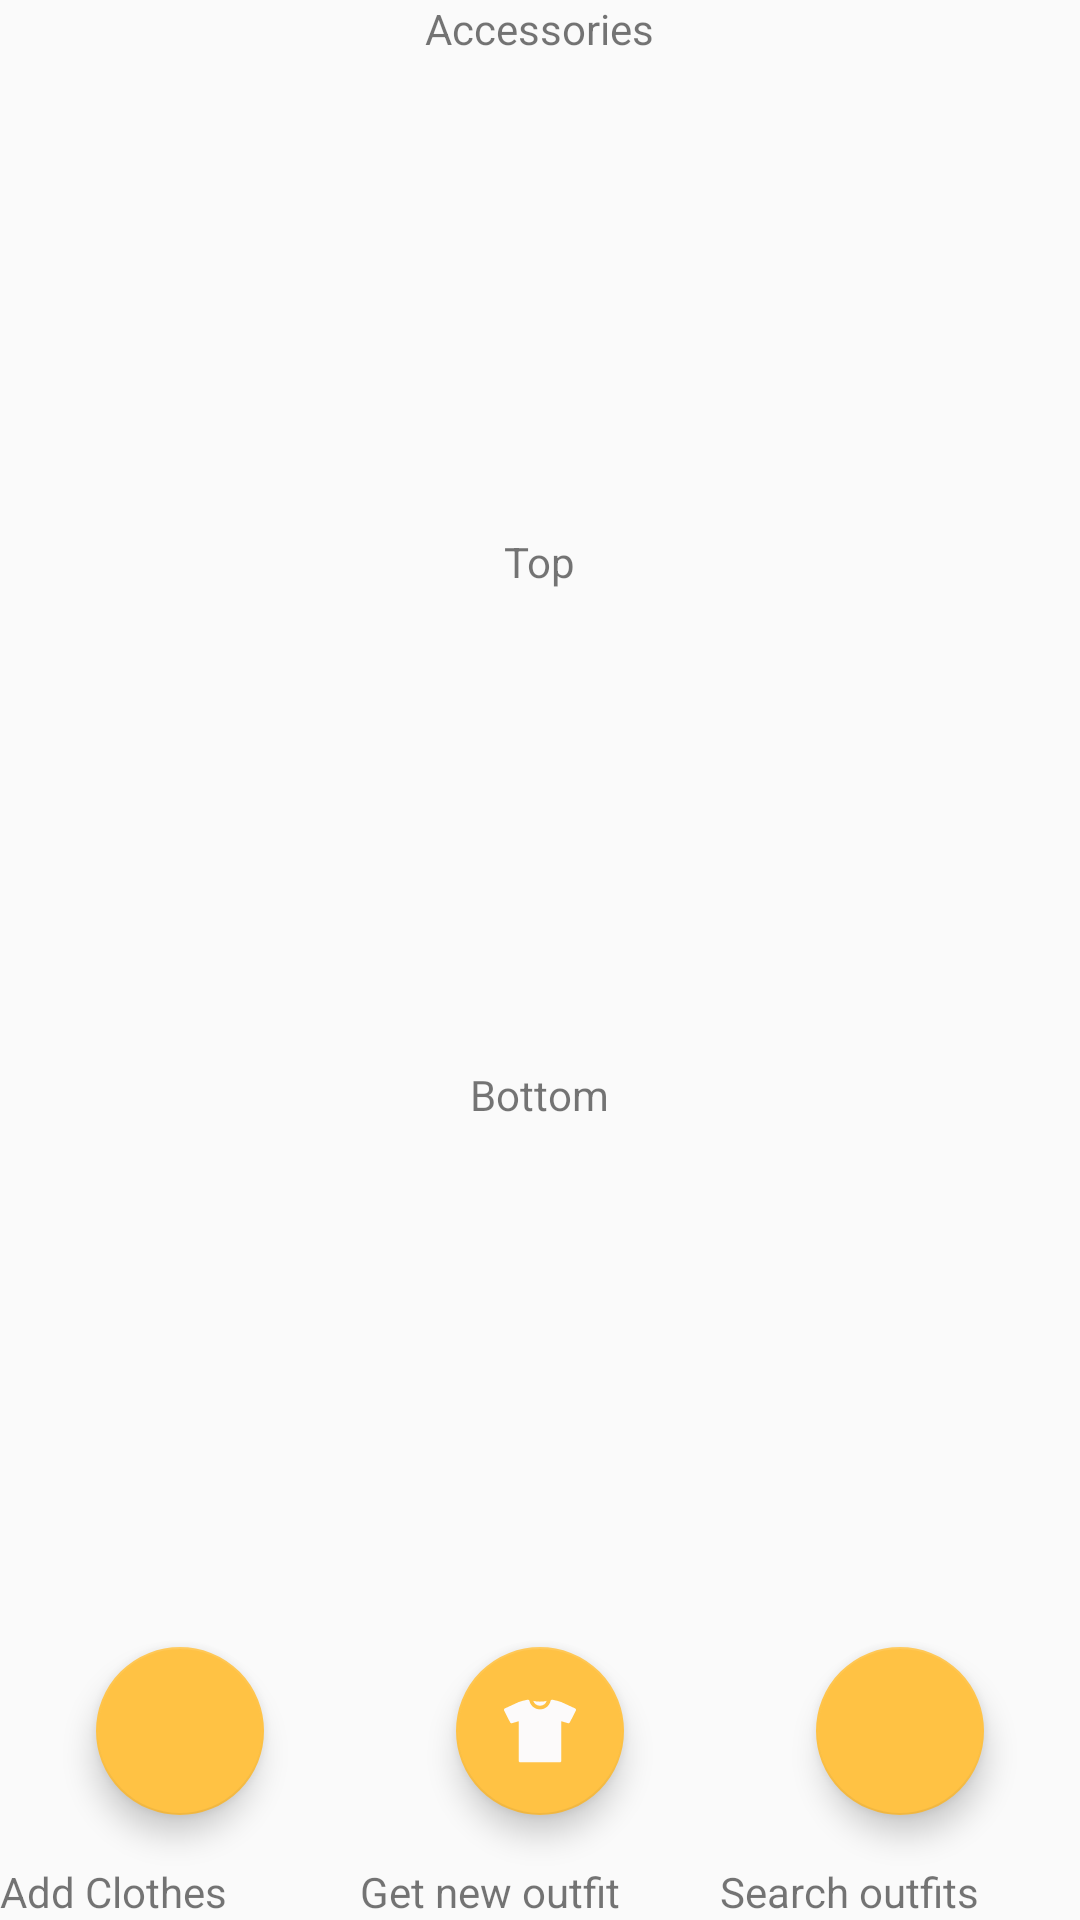

Locate icon controls on the screen. Image size 1080w x 1920h, boxes as (x1,y1,x2,y2).
clothes: (456,1647,624,1815)
